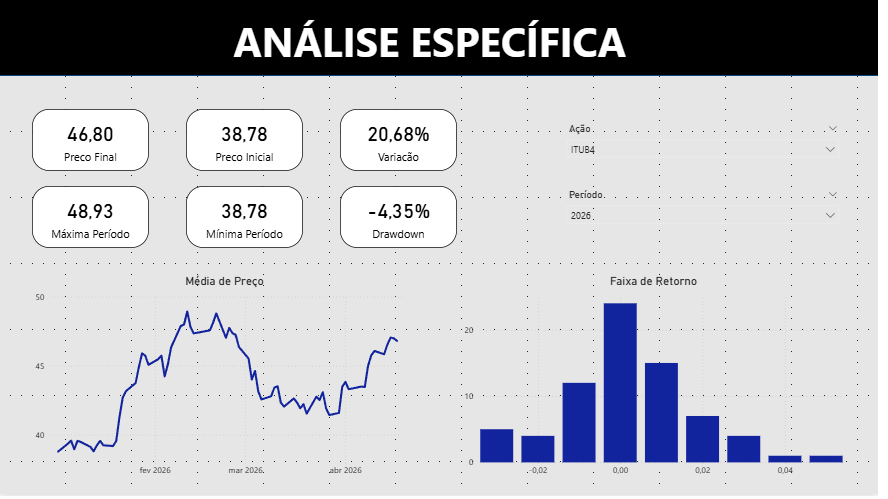

Layout of this report page (visuals, bound fields, positions):
{"tool":"powerbi","page":{"name":"Análise Específica","canvas":[1280,720],"ordinal":1},"visuals":[{"type":"shape","box":[0,0,1280,112],"z":0},{"type":"lineChart","title":"Média de Preço","fields":{"Y":["Avg(monitoramento_acoes_br_long.preco)"],"Series":["monitoramento_acoes_br_long.Ticker"],"Category":["Calendario.Date.Variation.Hierarquia de datas.Ano","Calendario.Date.Variation.Hierarquia de datas.Trimestre","Calendario.Date.Variation.Hierarquia de datas.Mês","Calendario.Date.Variation.Hierarquia de datas.Dia"]},"box":[48,400,560,304],"z":1000},{"type":"slicer","fields":{"Values":["monitoramento_acoes_br_long.Ticker"]},"box":[816,176,416,80],"z":2000},{"type":"card","fields":{"Values":["monitoramento_acoes_br_long.Preco Atual"]},"box":[48,160,170,90],"z":3000},{"type":"card","fields":{"Values":["monitoramento_acoes_br_long.Preco Anterior"]},"box":[272,160,170,90],"z":4000},{"type":"card","fields":{"Values":["monitoramento_acoes_br_long.Variacao %"]},"box":[496,160,170,90],"z":5000},{"type":"slicer","fields":{"Values":["Calendario.Ano Hierarquia.Ano","Calendario.Ano Hierarquia.Mes","Calendario.Ano Hierarquia.Dia"]},"box":[816,272,416,96],"z":6000},{"type":"clusteredColumnChart","title":"Faixa de Retorno","fields":{"Category":["monitoramento_acoes_br_long.Faixa de Retorno Coluna"],"Y":["CountNonNull(monitoramento_acoes_br_long.Ticker)"],"Series":["monitoramento_acoes_br_long.Ticker"]},"box":[672,400,560,304],"z":7000},{"type":"card","fields":{"Values":["monitoramento_acoes_br_long.Máxima Período"]},"box":[48,272,170,90],"z":8000},{"type":"card","fields":{"Values":["monitoramento_acoes_br_long.Mínima Período"]},"box":[272,272,170,90],"z":9000},{"type":"card","fields":{"Values":["monitoramento_acoes_br_long.Distância da Máxima %"]},"box":[496,272,170,90],"z":10000},{"type":"textbox","box":[336,16,592,112],"z":11000}]}

Visuals, with their boxes in screenshot pixels (x1, y1, x2, y2), scaled from the page's 1280x720 canvas onto the 888x499 screenshot:
shape: <bbox>0, 0, 887, 78</bbox>
"Média de Preço" lineChart: <bbox>33, 277, 422, 488</bbox>
slicer - monitoramento_acoes_br_long.Ticker: <bbox>566, 122, 855, 177</bbox>
card - monitoramento_acoes_br_long.Preco Atual: <bbox>33, 111, 151, 173</bbox>
card - monitoramento_acoes_br_long.Preco Anterior: <bbox>189, 111, 307, 173</bbox>
card - monitoramento_acoes_br_long.Variacao %: <bbox>344, 111, 462, 173</bbox>
slicer - Calendario.Ano Hierarquia.Ano x Calendario.Ano Hierarquia.Mes: <bbox>566, 189, 855, 255</bbox>
"Faixa de Retorno" clusteredColumnChart: <bbox>466, 277, 855, 488</bbox>
card - monitoramento_acoes_br_long.Máxima Período: <bbox>33, 189, 151, 251</bbox>
card - monitoramento_acoes_br_long.Mínima Período: <bbox>189, 189, 307, 251</bbox>
card - monitoramento_acoes_br_long.Distância da Máxima %: <bbox>344, 189, 462, 251</bbox>
textbox: <bbox>233, 11, 644, 89</bbox>
